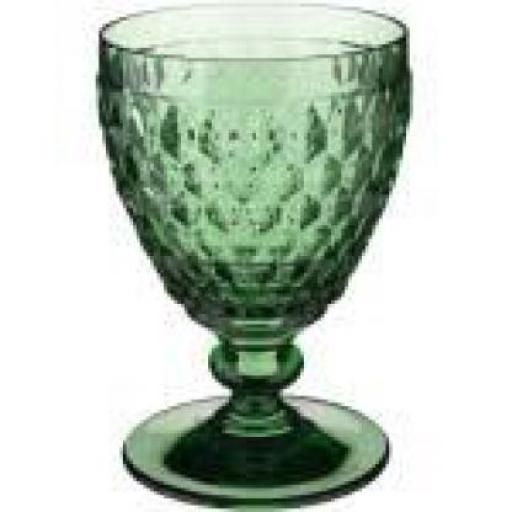glass: (95, 0, 409, 508)
